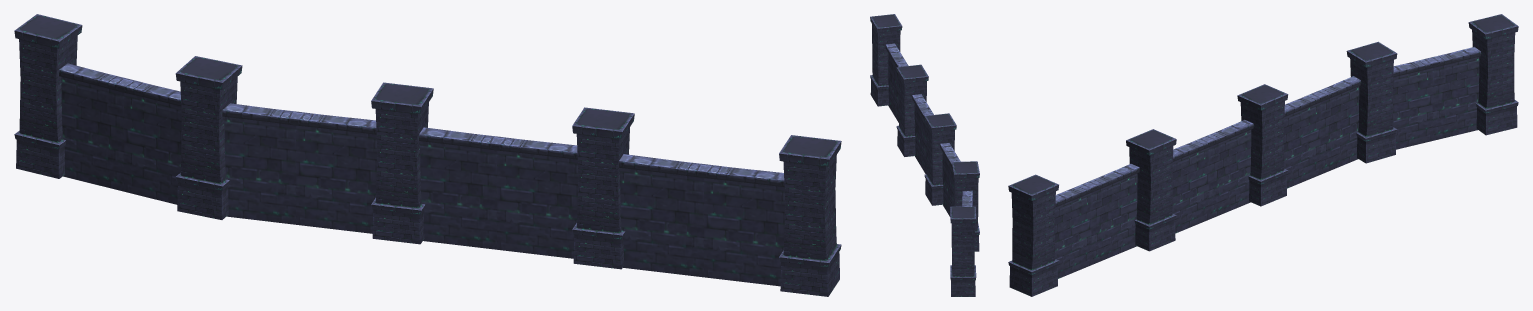
The model's file is Area10_14.fbx.
The picture shows the model from 3 angles, left to right: view 1: azimuth 30°, elevation 25°; view 2: azimuth 150°, elevation 25°; view 3: azimuth 270°, elevation 25°; orthographic projection. The views are drawn at different scales.
Parts seen in each view (by area): view 1: Area10_14; view 2: Area10_14; view 3: Area10_14.
Part boxes in pixels (x1,y1,x2,y2): Area10_14: (14, 14, 841, 296); Area10_14: (870, 14, 979, 296); Area10_14: (1008, 14, 1518, 296).
Bounding box in the file's own units: 2221 × 589 × 2632.
